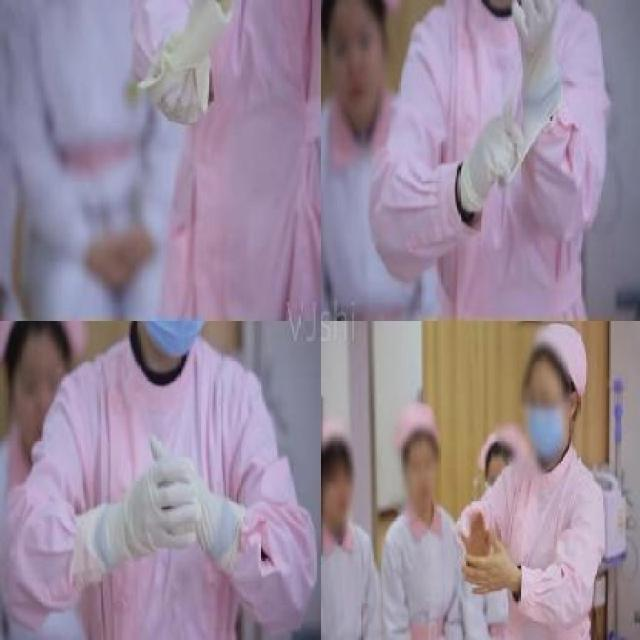face_mask: (524, 374, 574, 458)
face_nomask: (323, 12, 385, 125), (400, 440, 448, 511), (324, 466, 354, 514)
hand_glove: (126, 436, 202, 552), (504, 0, 564, 88), (149, 57, 200, 126), (469, 117, 511, 195)
hand_noglove: (462, 542, 518, 598), (454, 508, 491, 557)
person: (463, 340, 620, 640), (388, 404, 474, 640), (320, 420, 386, 640)
